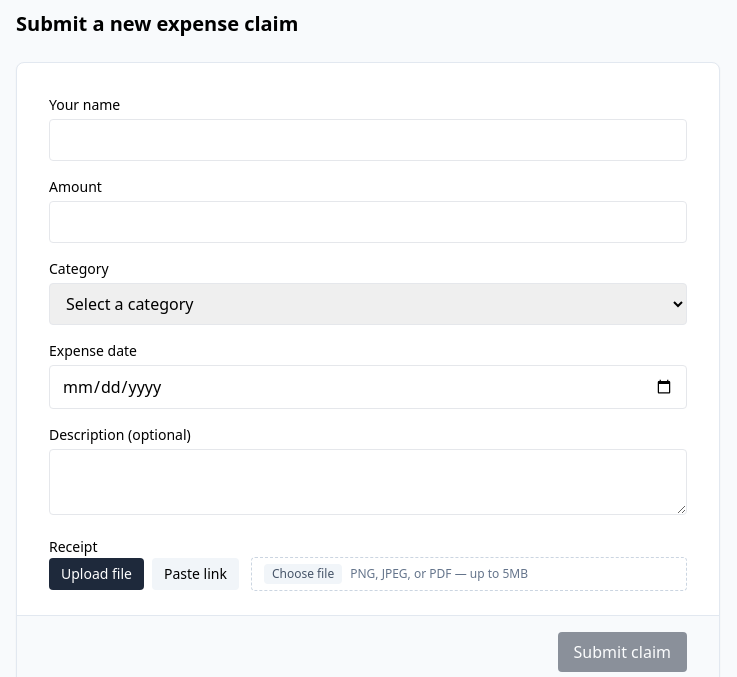
it: New claim submission renders the correct status badge › renders "rejected-1" badge for mock "Rejected"
The image size is (737, 677).
Type "Jane Employee" into the field labelled "Your name" at (368, 140), box [49,119,687,161]
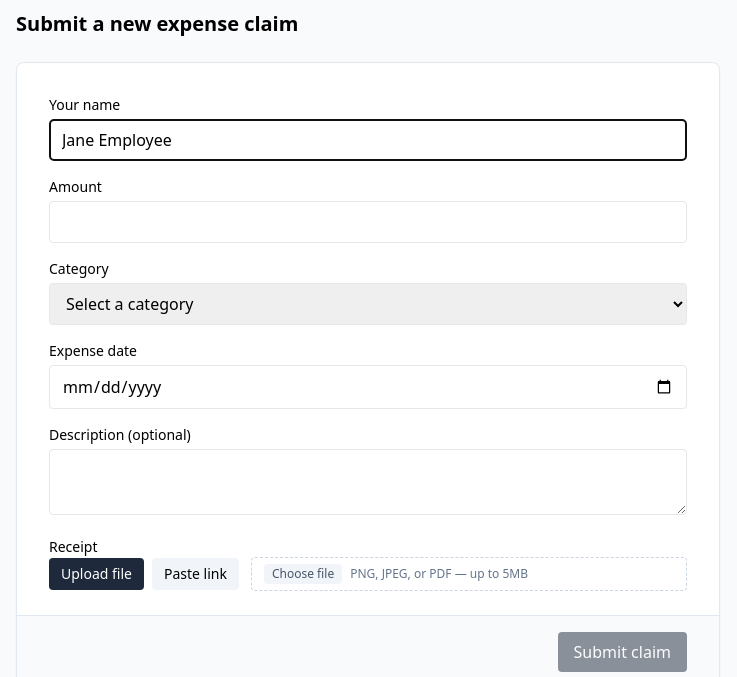
Type "20" into the field labelled "Amount" at (368, 222), box [49,201,687,243]
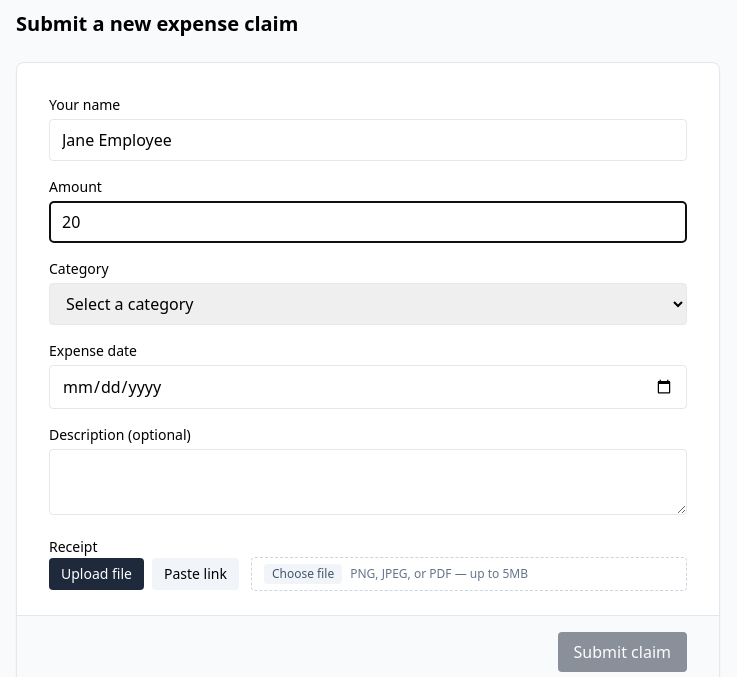
Select "meals" in the dropdown labelled "Category" at (368, 304), box [49,283,687,325]
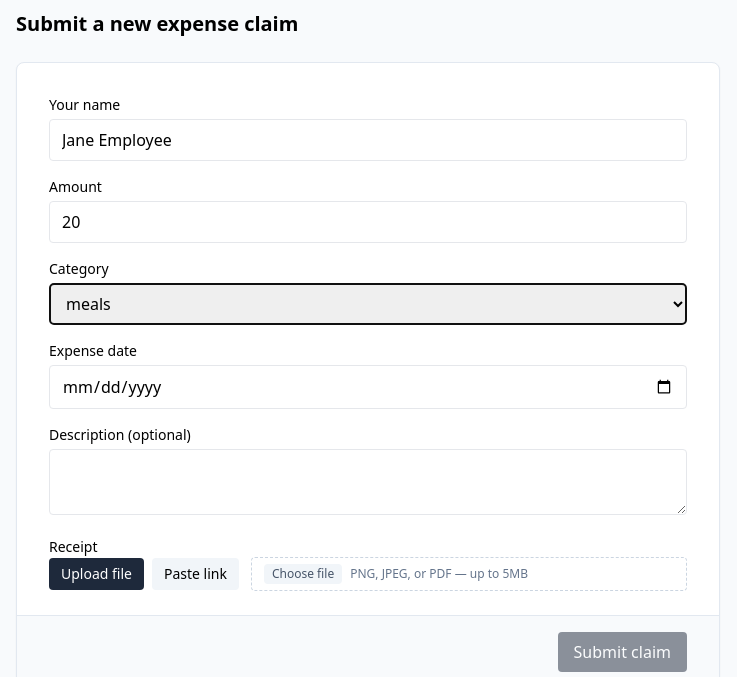
Type "2026-01-01" into the date field labelled "Expense date" at (368, 387), box [49,365,687,409]
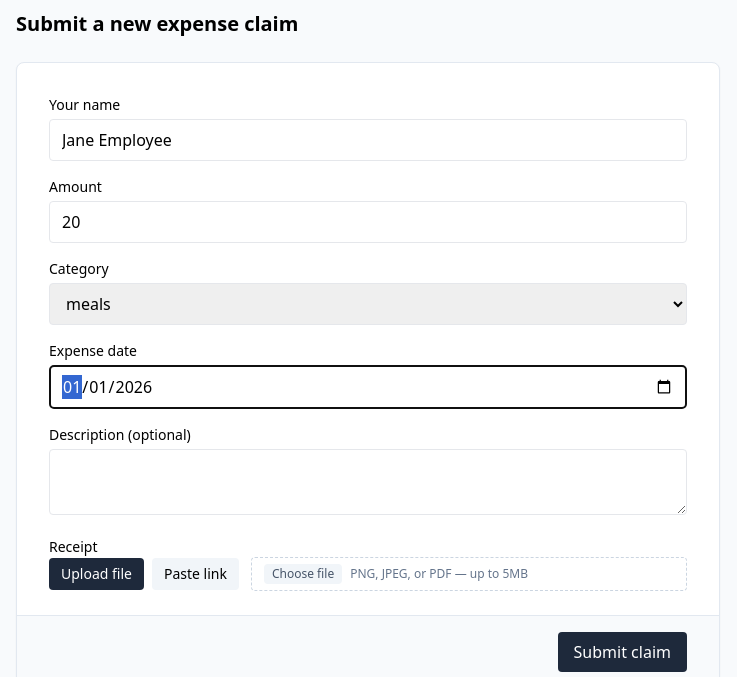
Click the button "Submit claim" at (622, 652), box [558,632,687,672]
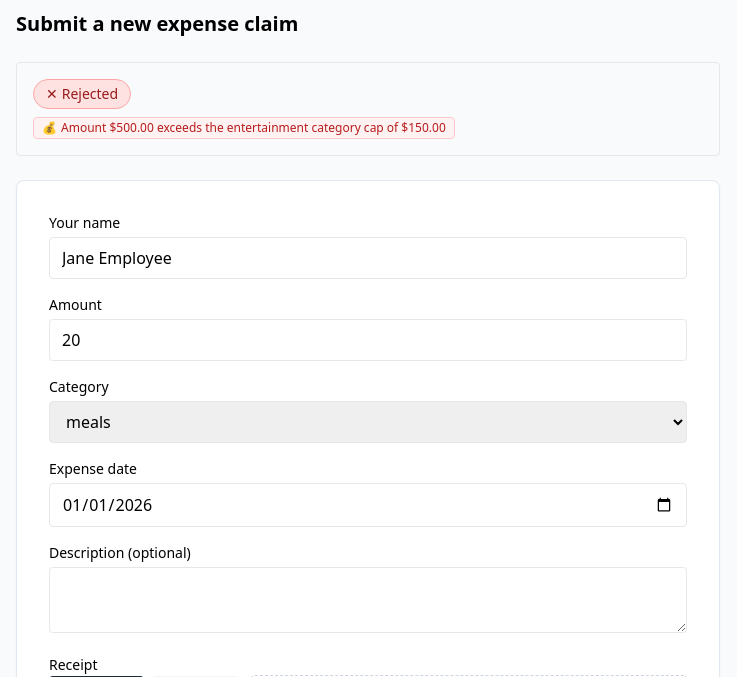
expect the message shows "Rejected": met, box [62,84,118,103]
expect the text "Amount $500.00 exceeds the entertainment category cap of $150.00" is shown: met, box [61,119,446,136]
